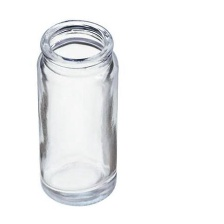bottle: (31, 12, 124, 209)
